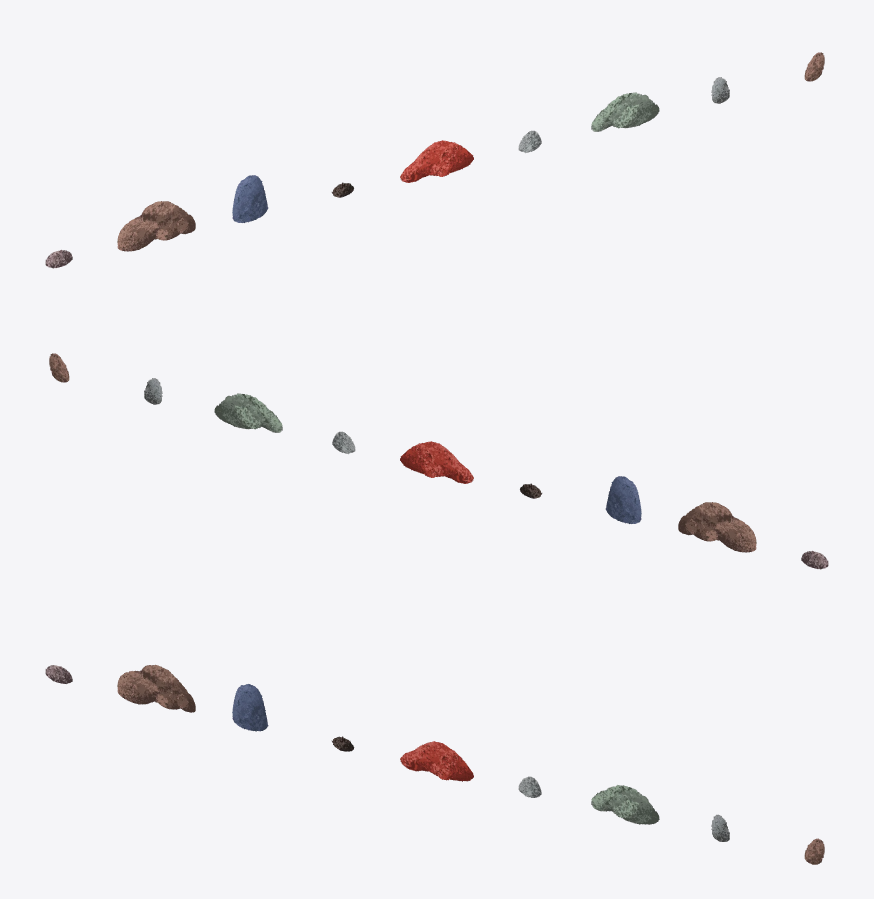
Rendered from rocks.glb.
3 views of the same model, one above another, from view 1: azimuth 30°, elevation 25°; view 2: azimuth 150°, elevation 25°; view 3: azimuth 330°, elevation 25° (orthographic).
Parts seen in each view (by area): view 1: stone_3, stone_7, stone_4, stone_2; view 2: stone_3, stone_7, stone_4, stone_2; view 3: stone_3, stone_7, stone_4, stone_2.
Part boxes in pixels (<box>): stone_3: <box>117,201,195,251</box>; stone_7: <box>400,140,473,182</box>; stone_4: <box>591,92,659,131</box>; stone_2: <box>232,175,268,222</box>; stone_3: <box>678,502,756,552</box>; stone_7: <box>400,441,473,483</box>; stone_4: <box>214,393,282,432</box>; stone_2: <box>605,476,641,523</box>; stone_3: <box>117,664,195,712</box>; stone_7: <box>400,741,473,781</box>; stone_4: <box>591,785,659,824</box>; stone_2: <box>232,684,268,731</box>.
Bounding box in the file's own units: 11.05 × 0.8412 × 9.33e-06.
Materials: 9 (9 with a texture image).
